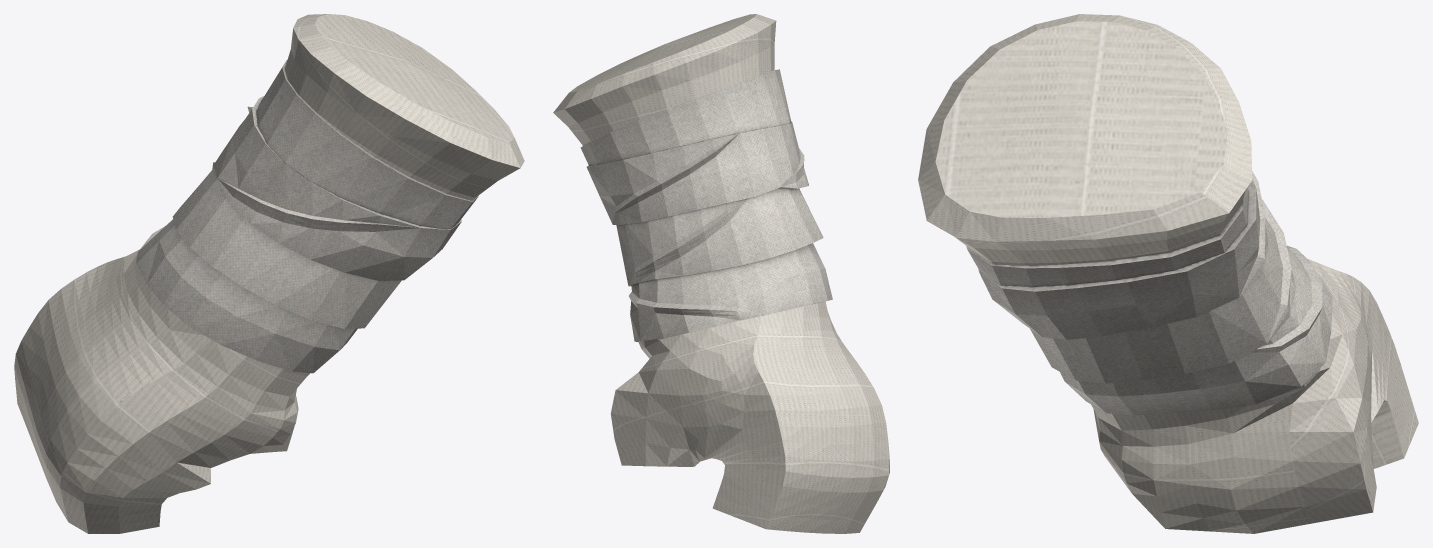
3 renders of one model, left to right at view 1: azimuth 30°, elevation 25°; view 2: azimuth 150°, elevation 25°; view 3: azimuth 270°, elevation 25°, orthographic. The views are drawn at different scales.
Parts seen in each view (by area): view 1: geometry_0; view 2: geometry_0; view 3: geometry_0.
Boxes of the visible parts, x1,y1,x2,y2 form: geometry_0: [14, 14, 524, 533]; geometry_0: [553, 14, 889, 533]; geometry_0: [918, 14, 1418, 533].
Size of the model in its own units: 1.01 by 1.24 by 0.979.
Materials: 1 (1 with a texture image).
